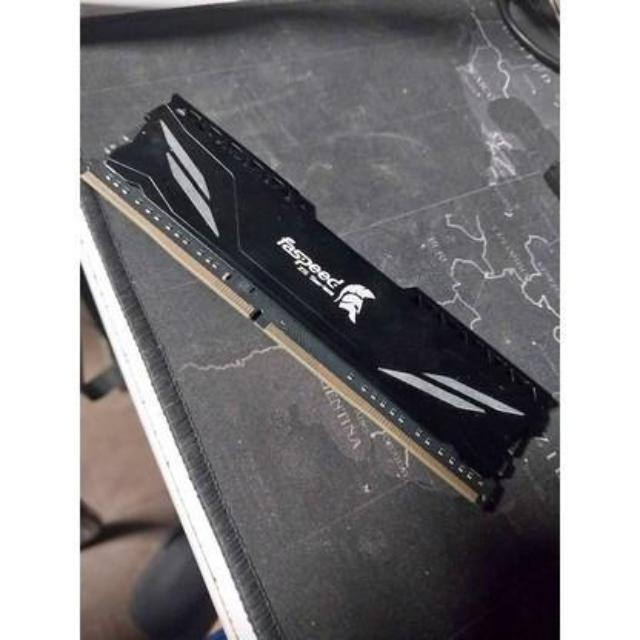RAM: (82, 82, 554, 518)
